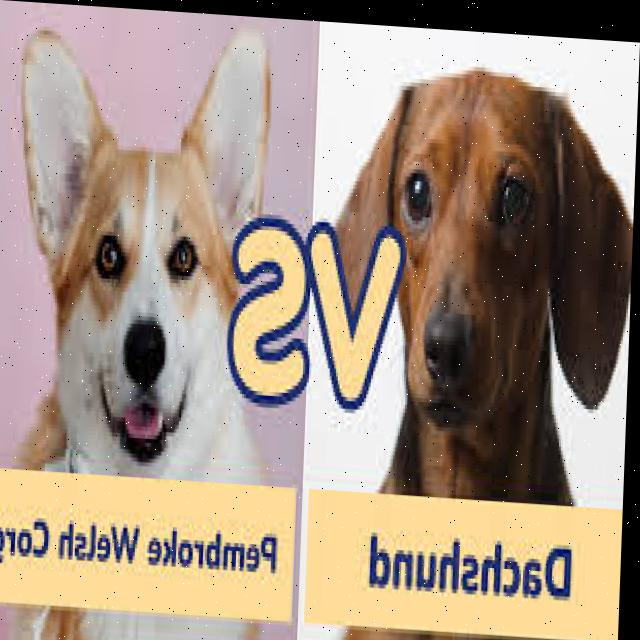CORGI: (6, 16, 300, 489)
